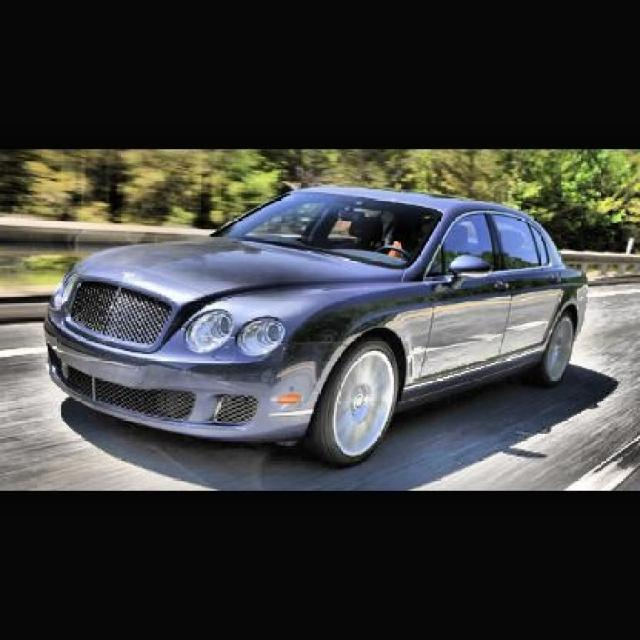black: (49, 188, 593, 460)
